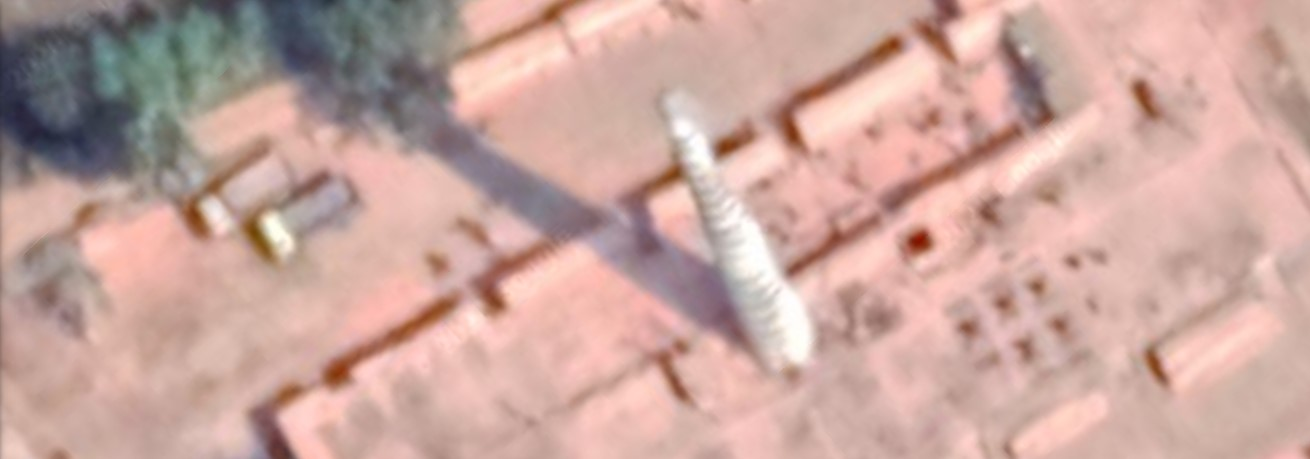kiln: (346, 32, 1104, 418)
